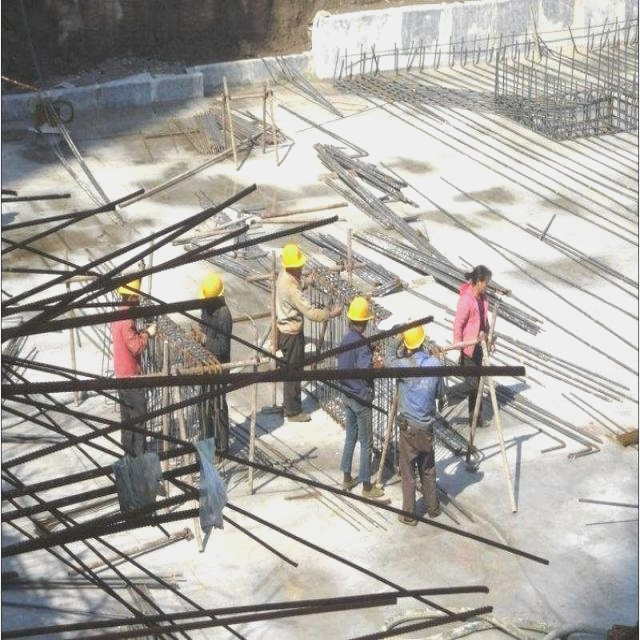Con_Casco: (344, 295, 372, 330), (278, 243, 303, 275)
